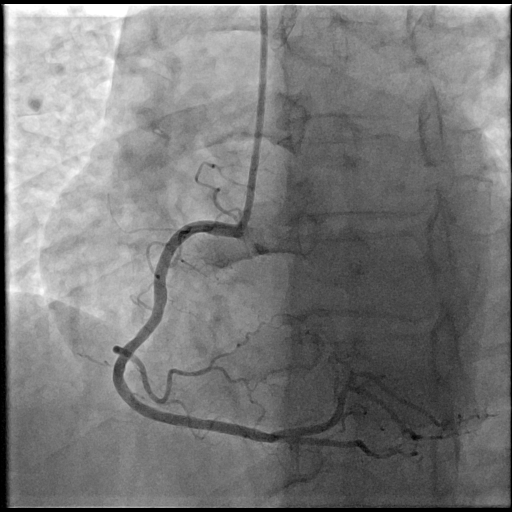RCA: (113, 221, 395, 458)
catherter: (239, 6, 268, 229)
